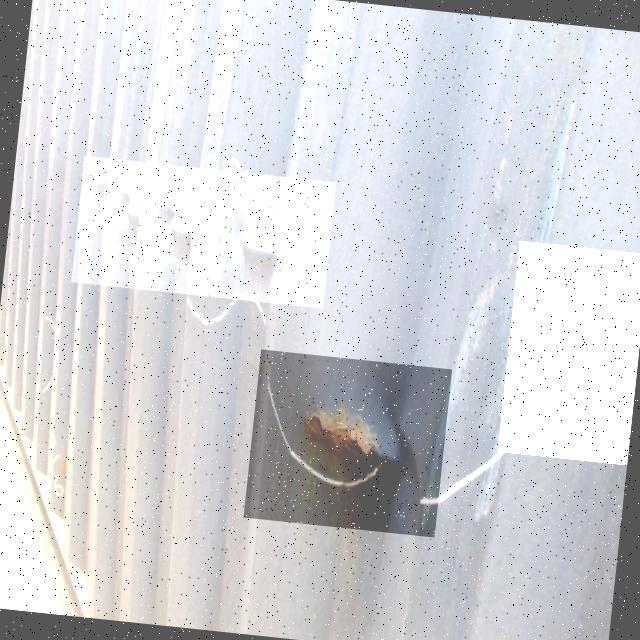dent: (72, 157, 337, 310), (244, 350, 453, 538)
